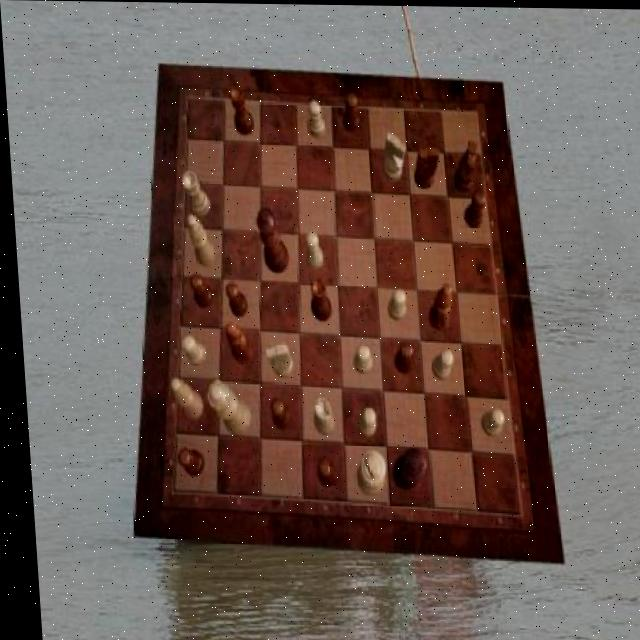bishop: (422, 282, 449, 328), (219, 323, 248, 364)
black-bishop: (383, 445, 421, 488)
black-king: (449, 139, 477, 192), (410, 146, 439, 189)
black-knight: (459, 190, 484, 226), (185, 273, 210, 308), (170, 448, 199, 476), (220, 281, 243, 316), (340, 91, 359, 132), (387, 341, 408, 374), (264, 397, 285, 429), (310, 457, 331, 487)
black-pawn: (253, 208, 287, 273)
black-queen: (227, 86, 253, 135), (306, 277, 329, 320)
black-rook: (184, 214, 212, 267), (164, 377, 197, 420)
white-bishop: (349, 449, 381, 494)
white-king: (379, 132, 406, 182), (259, 341, 289, 378)
white-knight: (424, 347, 449, 380), (176, 335, 201, 367), (301, 230, 320, 267), (305, 99, 324, 136), (474, 409, 500, 436), (382, 289, 403, 322), (348, 344, 368, 375), (350, 407, 370, 436)
white-pawn: (201, 379, 246, 436)
white-queen: (179, 171, 208, 217), (306, 397, 329, 435)
